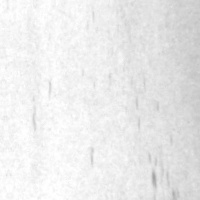inclusion: (144, 146, 182, 199)
